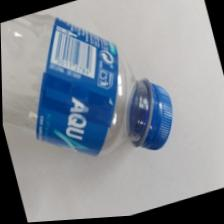plastic: (0, 0, 189, 221)
